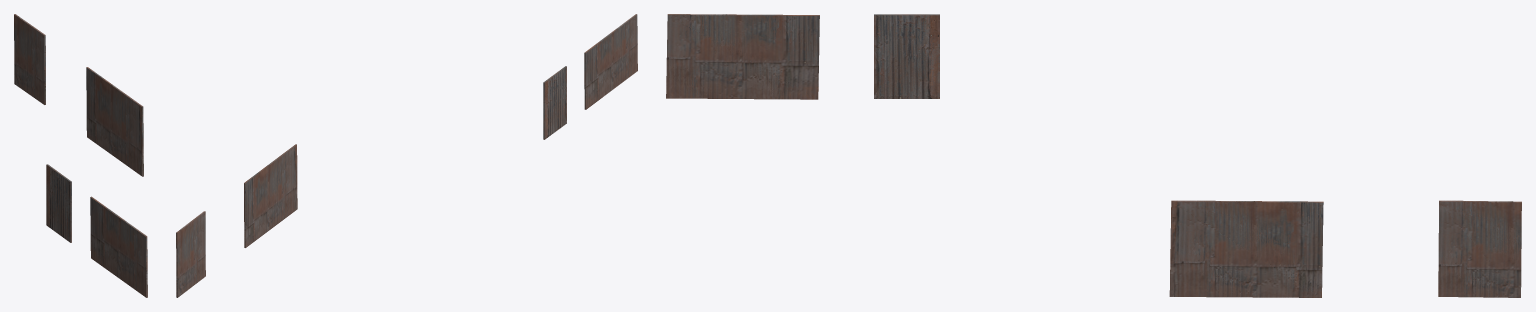
The model's file is SM_NeoLD_12_Toles_00.fbx.
3 views of the same model, side by side, from view 1: azimuth 30°, elevation 25°; view 2: azimuth 150°, elevation 25°; view 3: azimuth 270°, elevation 25° (orthographic). The views are drawn at different scales.
Parts seen in each view (by area): view 1: SM_NeoLD_12_Toles_00; view 2: SM_NeoLD_12_Toles_00; view 3: SM_NeoLD_12_Toles_00.
Boxes of the visible parts, x1,y1,x2,y2 form: SM_NeoLD_12_Toles_00: (14,14,147,297); SM_NeoLD_12_Toles_00: (176,14,637,297); SM_NeoLD_12_Toles_00: (666,14,1521,297).
Size of the model in its own units: 778 by 487 by 2320.
